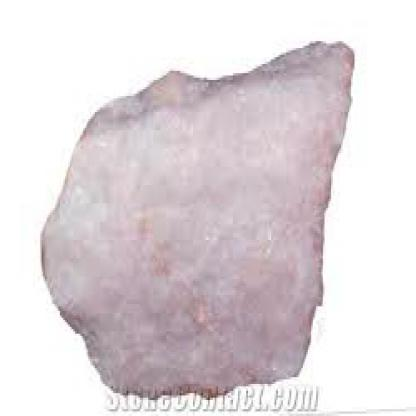Metamorphic_Quartize: (30, 16, 358, 398)
